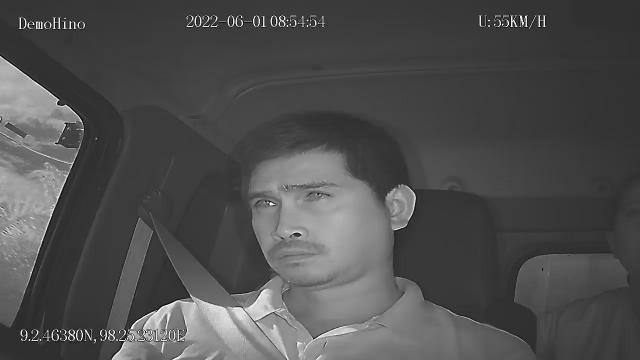SafeDriving: (296, 184, 338, 208), (247, 192, 284, 212)
Seatbelt: (134, 184, 294, 360)
